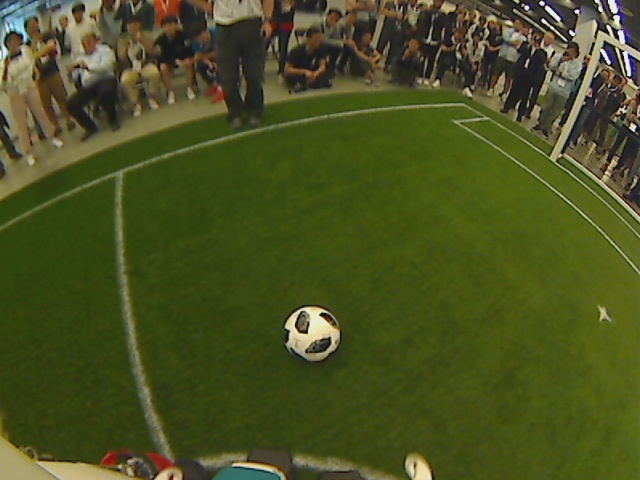ball: (281, 303, 342, 364)
